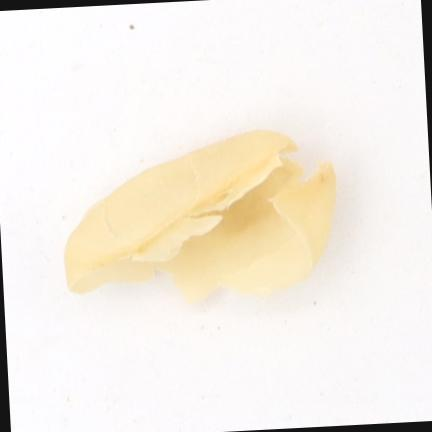parchment: (66, 130, 335, 300)
